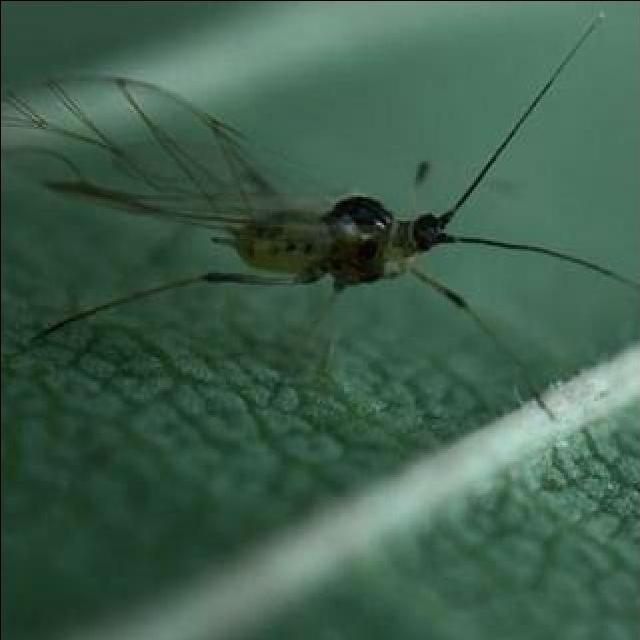aphid: (8, 66, 565, 326)
